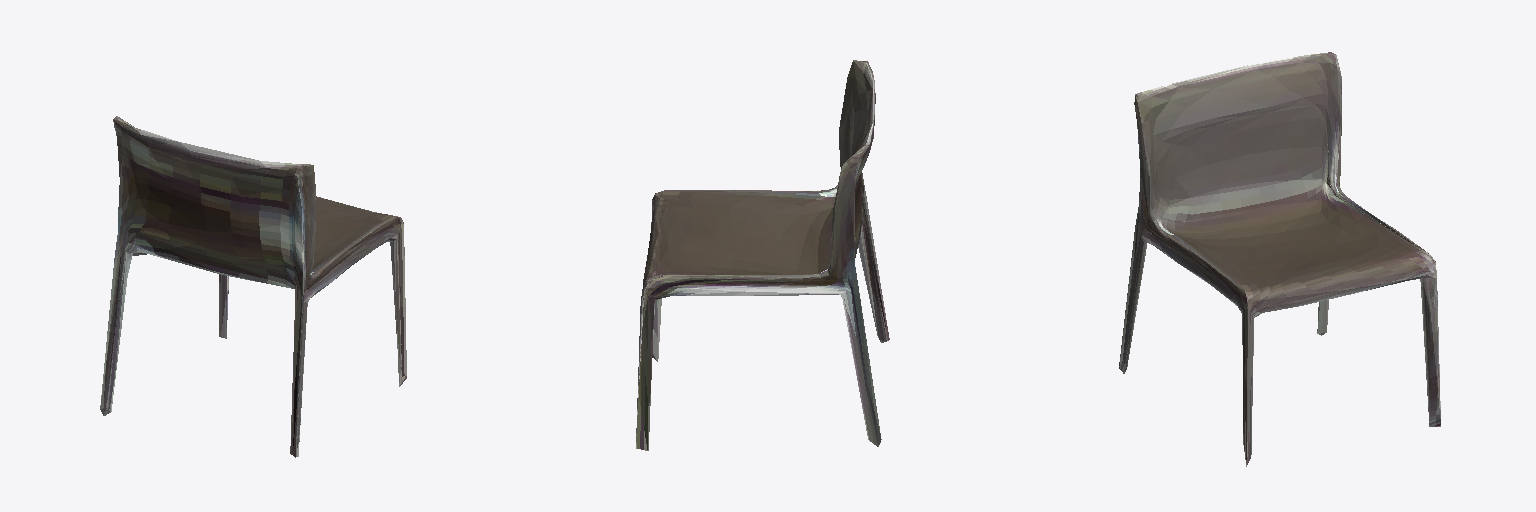
The picture shows the model from 3 angles: view 1: azimuth 30°, elevation 25°; view 2: azimuth 150°, elevation 25°; view 3: azimuth 270°, elevation 25°; orthographic projection.
Bounding box in the file's own units: 0.9418 × 1 × 0.9759.
1 materials, 1 textured.